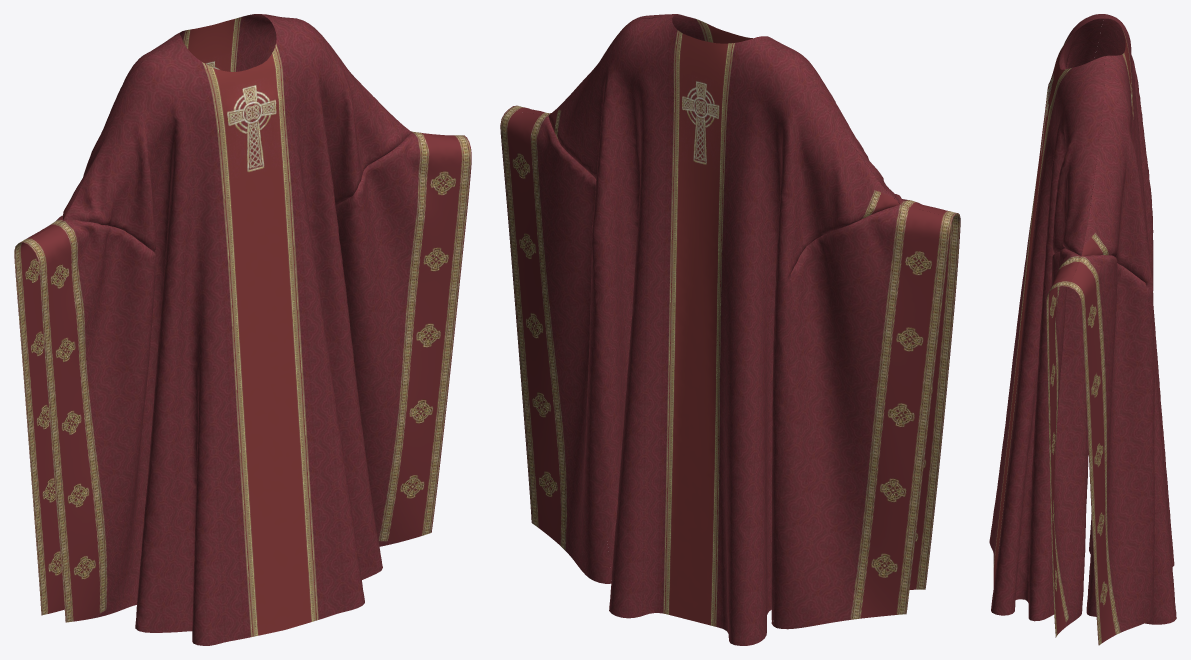
File: Monastic.gltf
3 views of the same model, side by side, from view 1: azimuth 30°, elevation 25°; view 2: azimuth 150°, elevation 25°; view 3: azimuth 270°, elevation 25° (orthographic). The views are drawn at different scales.
Parts seen in each view (by area): view 1: Monastic_map_011, Monastic_map_012, Monastic_map_009, Monastic_map_010, Monastic_map_1_1; view 2: Monastic_map_1_1, Monastic_map_010, Monastic_map_008, Monastic_map_009, Monastic_map_011; view 3: Monastic_map_011, Monastic_map_008, Monastic_map_1_1, Monastic_map_012.
Boxes of the visible parts, box(x1,y1,x2,y2) form: Monastic_map_011: box(63, 15, 411, 645); Monastic_map_012: box(335, 132, 471, 546); Monastic_map_009: box(23, 219, 156, 622); Monastic_map_010: box(14, 215, 64, 615); Monastic_map_1_1: box(63, 14, 300, 219); Monastic_map_1_1: box(548, 15, 899, 645); Monastic_map_010: box(773, 204, 953, 629); Monastic_map_008: box(500, 109, 611, 583); Monastic_map_009: box(894, 193, 960, 589); Monastic_map_011: box(631, 14, 899, 203); Monastic_map_011: box(989, 14, 1104, 621); Monastic_map_008: box(1069, 255, 1154, 645); Monastic_map_1_1: box(1081, 14, 1176, 624); Monastic_map_012: box(1046, 248, 1086, 637).
Bounding box in the file's own units: 11.04 × 13.63 × 4.16.
8 materials, 8 textured.
